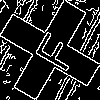F: (25, 25, 80, 75)
